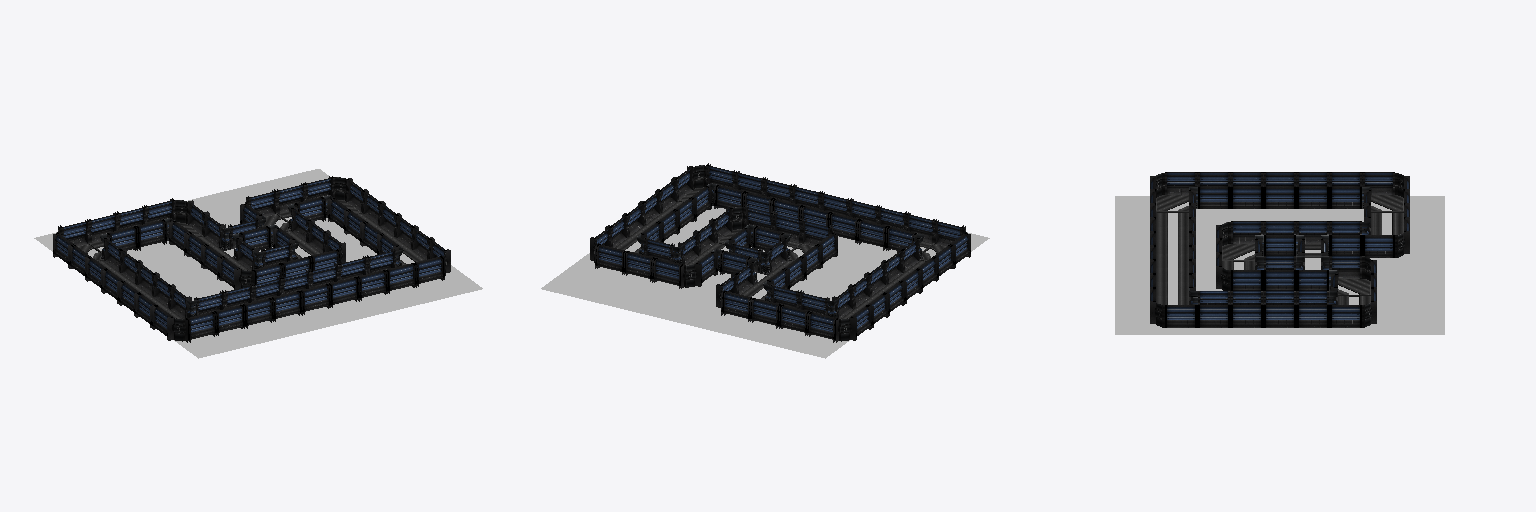
3 renders of one model, left to right at view 1: azimuth 30°, elevation 25°; view 2: azimuth 150°, elevation 25°; view 3: azimuth 270°, elevation 25°, orthographic.
Visible parts, largest first — view 1: Plane.007_Plane.001, Mesh.110_Cube_Cube.002, Mesh.042_Cube_Cube.002, Mesh.084_Cube_Cube.002, Mesh.085_Cube_Cube.002, Mesh.072_Cube_Cube.002, Mesh.078_Cube_Cube.002, Mesh.073_Cube_Cube.002, Mesh.090_Cube_Cube.002, Mesh.079_Cube_Cube.002, Mesh.065_Cube_Cube.002, Mesh.092_Cube_Cube.002 (+5 smaller); view 2: Plane.007_Plane.001, Mesh.114_Cube_Cube.002, Mesh.021_Cube_Cube.002, Mesh.041_Cube_Cube.002, Mesh.086_Cube_Cube.002, Mesh.051_Cube_Cube.002, Mesh.043_Cube_Cube.002, Mesh.046_Cube_Cube.002, Mesh.092_Cube_Cube.002, Mesh.071_Cube_Cube.002, Mesh.083_Cube_Cube.002, Mesh.090_Cube_Cube.002 (+5 smaller); view 3: Plane.007_Plane.001, Mesh.066_Cube_Cube.002, Mesh.064_Cube_Cube.002, Mesh.059_Cube_Cube.002, Mesh.053_Cube_Cube.002, Mesh.052_Cube_Cube.002, Mesh.040_Cube_Cube.002, Mesh.058_Cube_Cube.002, Mesh.111_Cube_Cube.002, Mesh.105_Cube_Cube.002, Mesh.099_Cube_Cube.002, Mesh.094_Cube_Cube.002 (+11 smaller).
Boxes of the visible parts, x1=… form: Plane.007_Plane.001: x1=34, y1=169, x2=482, y2=358; Mesh.110_Cube_Cube.002: x1=185, y1=312, x2=216, y2=342; Mesh.042_Cube_Cube.002: x1=135, y1=219, x2=166, y2=250; Mesh.084_Cube_Cube.002: x1=272, y1=291, x2=302, y2=321; Mesh.085_Cube_Cube.002: x1=243, y1=298, x2=273, y2=328; Mesh.072_Cube_Cube.002: x1=386, y1=263, x2=416, y2=293; Mesh.078_Cube_Cube.002: x1=328, y1=277, x2=359, y2=307; Mesh.073_Cube_Cube.002: x1=357, y1=270, x2=387, y2=300; Mesh.090_Cube_Cube.002: x1=214, y1=305, x2=244, y2=335; Mesh.079_Cube_Cube.002: x1=300, y1=284, x2=330, y2=314; Mesh.065_Cube_Cube.002: x1=414, y1=256, x2=444, y2=287; Mesh.092_Cube_Cube.002: x1=87, y1=212, x2=118, y2=242; Plane.007_Plane.001: x1=541, y1=206, x2=989, y2=358; Mesh.114_Cube_Cube.002: x1=807, y1=312, x2=838, y2=342; Mesh.021_Cube_Cube.002: x1=652, y1=258, x2=683, y2=288; Mesh.041_Cube_Cube.002: x1=721, y1=291, x2=751, y2=321; Mesh.086_Cube_Cube.002: x1=857, y1=219, x2=888, y2=250; Mesh.051_Cube_Cube.002: x1=595, y1=244, x2=626, y2=274; Mesh.043_Cube_Cube.002: x1=750, y1=298, x2=780, y2=328; Mesh.046_Cube_Cube.002: x1=624, y1=251, x2=654, y2=282; Mesh.092_Cube_Cube.002: x1=779, y1=305, x2=809, y2=335; Mesh.071_Cube_Cube.002: x1=714, y1=185, x2=745, y2=208; Mesh.083_Cube_Cube.002: x1=829, y1=213, x2=859, y2=243; Mesh.090_Cube_Cube.002: x1=905, y1=213, x2=936, y2=242; Plane.007_Plane.001: x1=1115, y1=196, x2=1444, y2=334; Mesh.066_Cube_Cube.002: x1=1165, y1=305, x2=1197, y2=327; Mesh.064_Cube_Cube.002: x1=1198, y1=305, x2=1230, y2=327; Mesh.059_Cube_Cube.002: x1=1231, y1=305, x2=1263, y2=327; Mesh.053_Cube_Cube.002: x1=1296, y1=305, x2=1328, y2=327; Mesh.052_Cube_Cube.002: x1=1329, y1=305, x2=1361, y2=327; Mesh.040_Cube_Cube.002: x1=1362, y1=235, x2=1394, y2=257; Mesh.058_Cube_Cube.002: x1=1264, y1=305, x2=1295, y2=327; Mesh.111_Cube_Cube.002: x1=1329, y1=187, x2=1361, y2=208; Mesh.105_Cube_Cube.002: x1=1296, y1=187, x2=1328, y2=208; Mesh.099_Cube_Cube.002: x1=1231, y1=187, x2=1263, y2=208; Mesh.094_Cube_Cube.002: x1=1198, y1=187, x2=1230, y2=208.
Size of the model in its own units: 40.8 by 4 by 40.
6 materials, 5 textured.